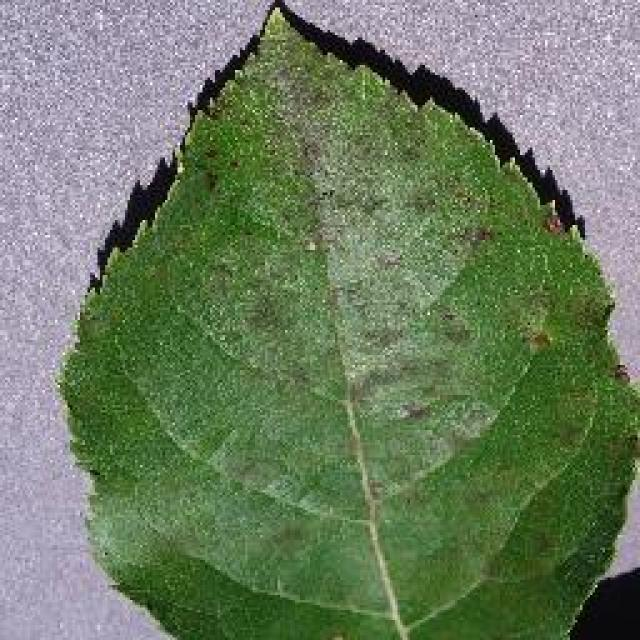Apple___Apple_scab: (50, 0, 636, 635)
